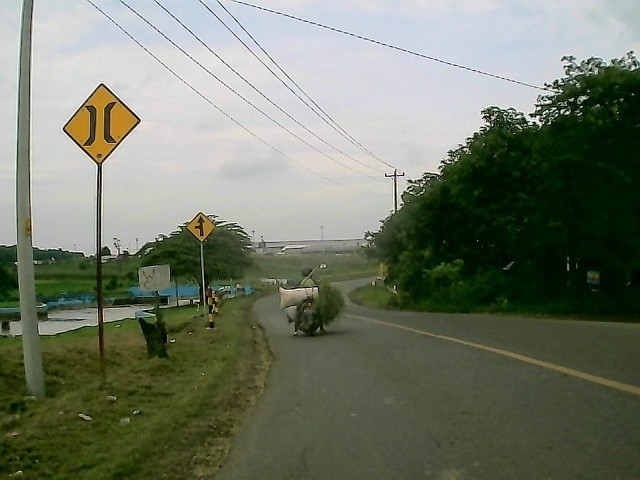Jembatan: (60, 82, 142, 165)
Simpang kiri dengan prioritas: (186, 212, 216, 243)
